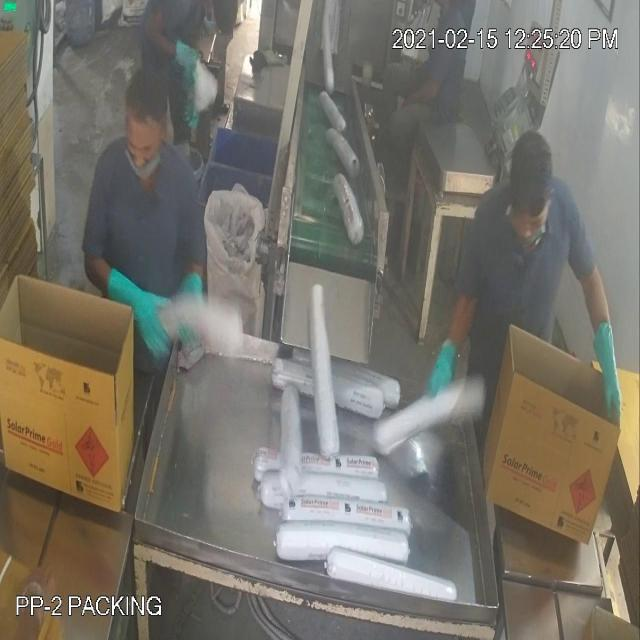gloves: (107, 245, 177, 359), (590, 306, 628, 434)
no-gloves: (8, 554, 62, 640), (395, 66, 445, 114)
